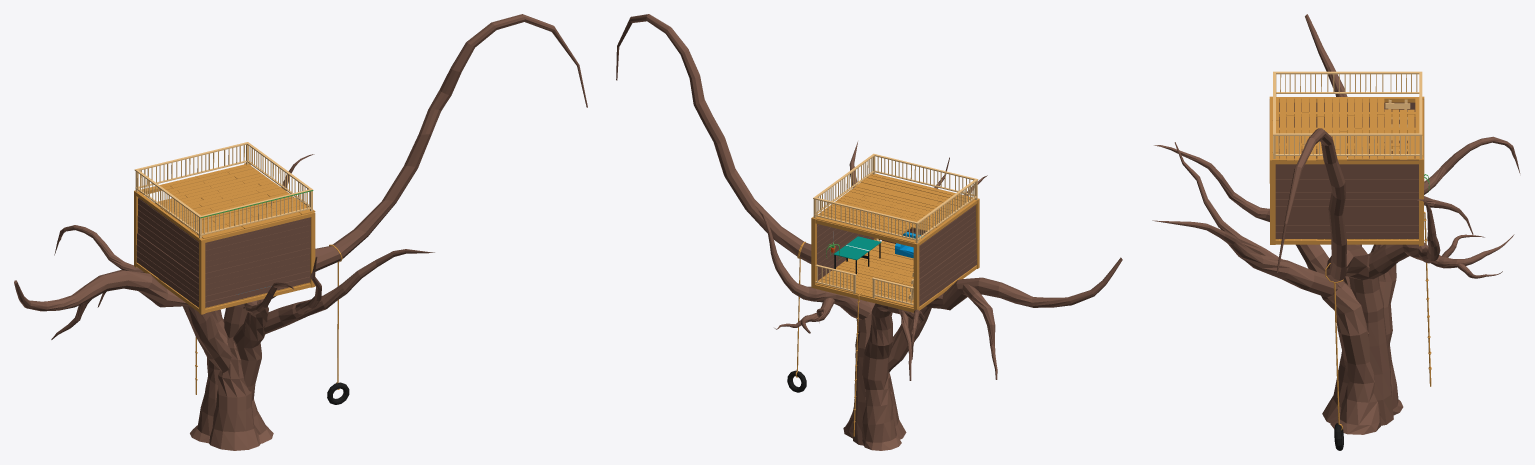
Rendered from andys-tree-house_eL0uwEEtOi_.glb.
3 renders of one model, left to right at view 1: azimuth 30°, elevation 25°; view 2: azimuth 150°, elevation 25°; view 3: azimuth 270°, elevation 25°, orthographic. The views are drawn at different scales.
Visible parts, largest first — view 1: Object.1; view 2: Object.1; view 3: Object.1.
Boxes of the visible parts, <box> form: Object.1: <box>14,14,587,450</box>; Object.1: <box>616,14,1122,450</box>; Object.1: <box>1152,14,1520,450</box>.
Bounding box in the file's own units: 119 × 76.09 × 59.36.
